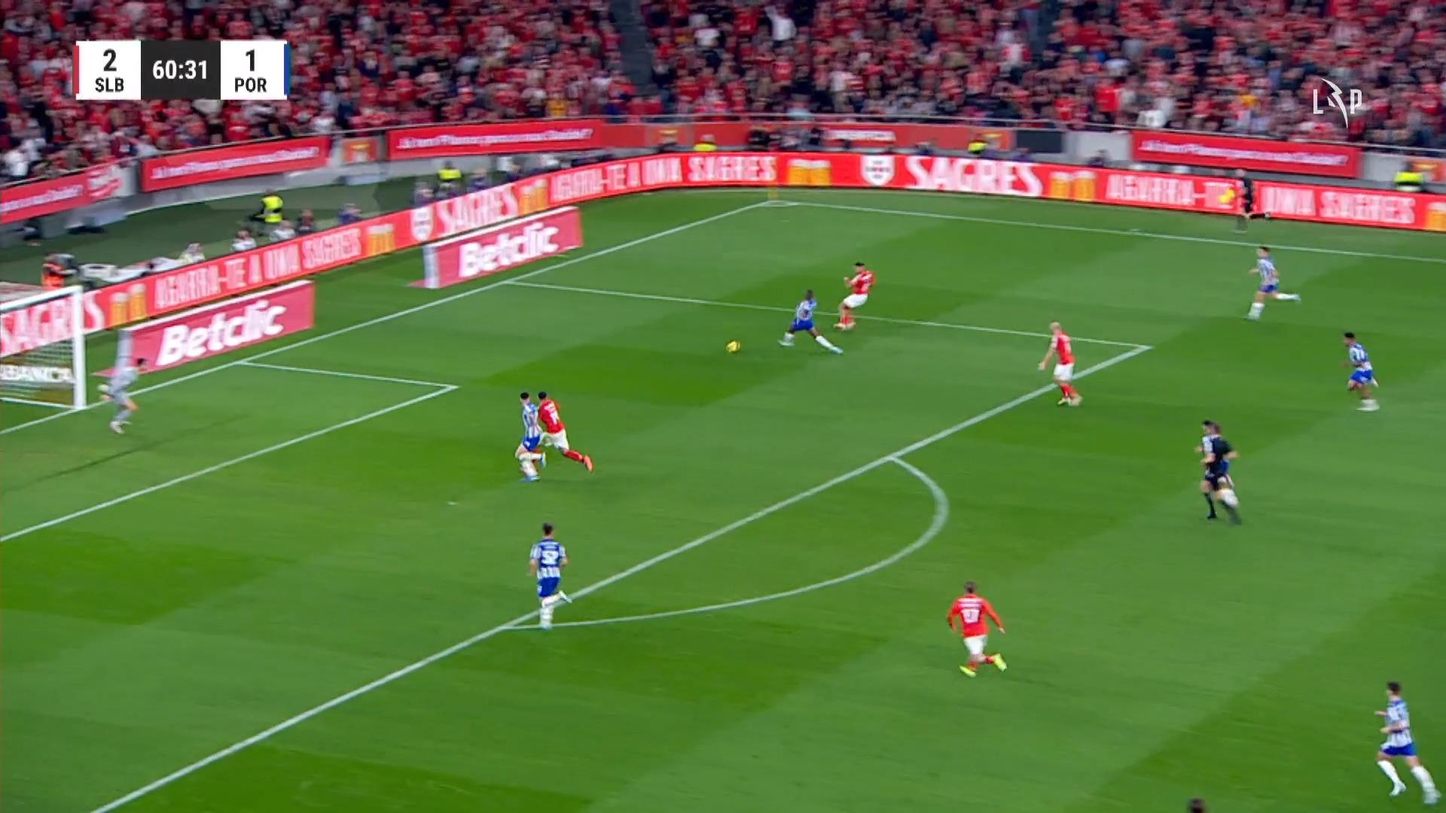ball: (725, 339, 742, 354)
goalkeeper: (99, 358, 148, 434)
player: (1368, 678, 1445, 808), (942, 578, 1007, 677), (534, 390, 594, 473), (527, 521, 572, 631), (1243, 243, 1302, 320), (777, 288, 843, 354), (1036, 321, 1085, 408), (1196, 417, 1242, 505), (1341, 329, 1383, 412), (515, 389, 548, 484), (835, 260, 876, 330)
referee: (1201, 423, 1239, 524), (1219, 167, 1272, 234)
